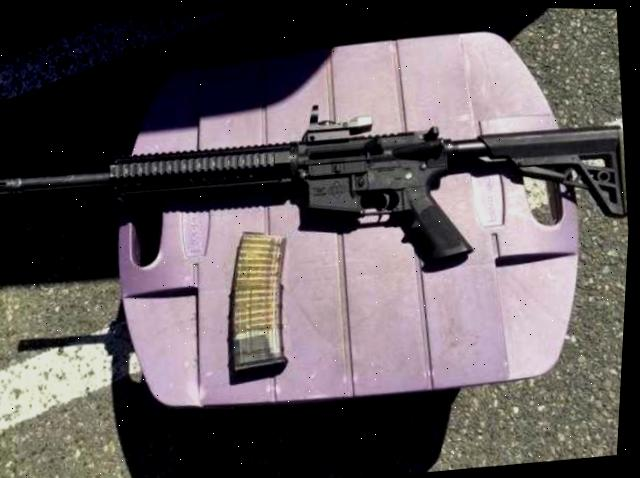rifle: (0, 68, 637, 324)
